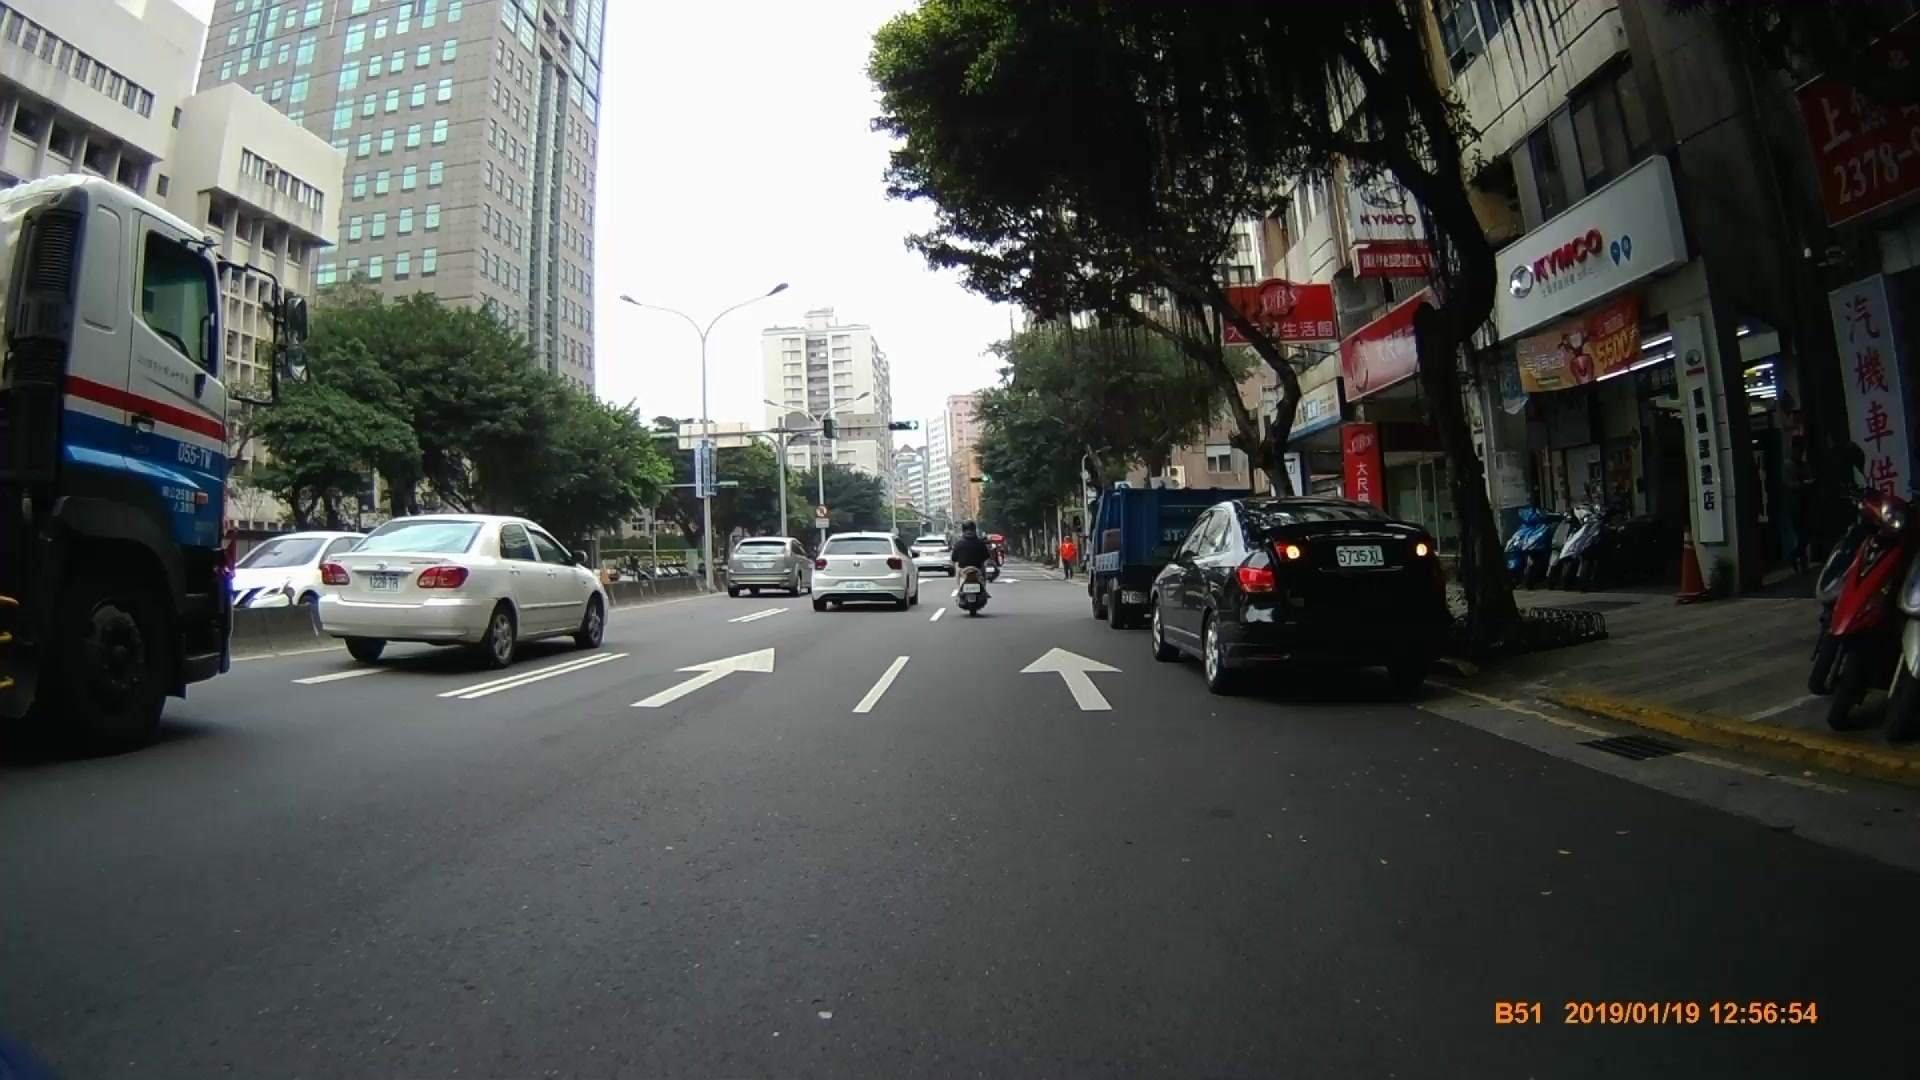License_plate: (1332, 544, 1386, 569), (364, 573, 402, 593)
